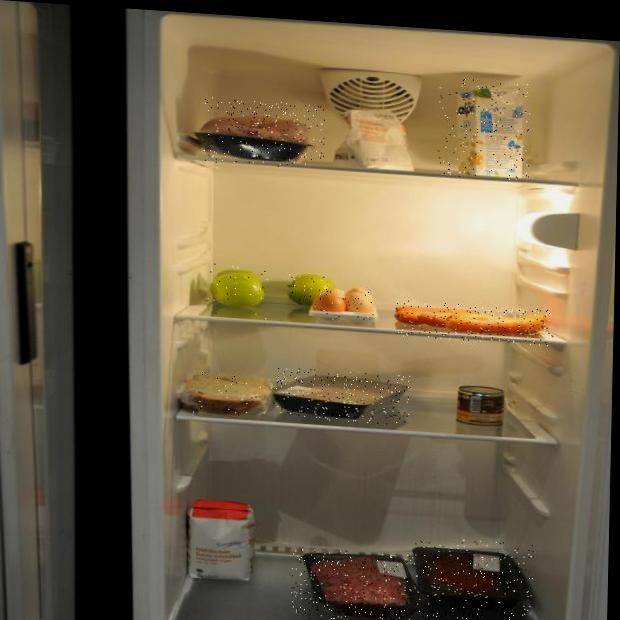apple: (206, 263, 271, 320), (287, 274, 328, 302)
bread: (186, 373, 276, 418)
carrots: (395, 300, 554, 346)
chicken: (204, 97, 325, 170)
eggs: (314, 288, 376, 323)
meat: (413, 536, 534, 620), (291, 547, 420, 620), (275, 367, 410, 426)
milk: (438, 77, 531, 181)
